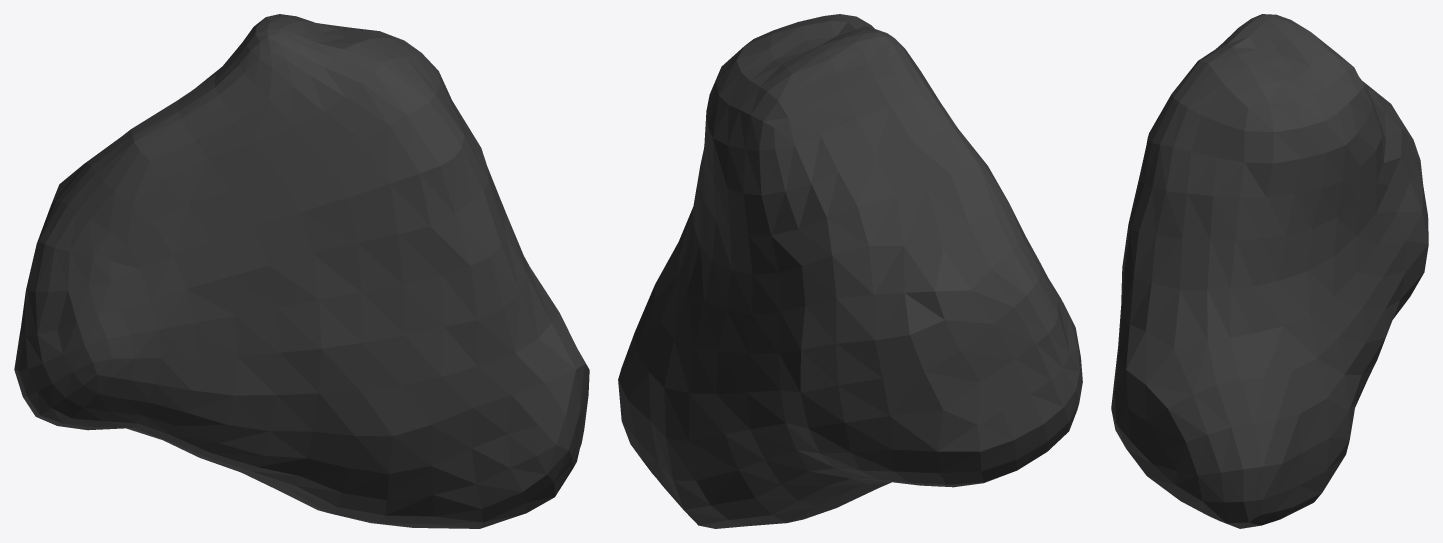
File: Carpal_bone_2nd.glb
3 views of the same model, side by side, from view 1: azimuth 30°, elevation 25°; view 2: azimuth 150°, elevation 25°; view 3: azimuth 270°, elevation 25° (orthographic). The views are drawn at different scales.
Visible parts, largest first — view 1: Carpal_bone_2nd; view 2: Carpal_bone_2nd; view 3: Carpal_bone_2nd.
Boxes of the visible parts, x1,y1,x2,y2 form: Carpal_bone_2nd: (14, 14, 589, 528); Carpal_bone_2nd: (618, 14, 1082, 528); Carpal_bone_2nd: (1111, 14, 1428, 528).
Bounding box in the file's own units: 0.1335 × 0.1347 × 0.0897.
Materials: 1 (1 with a texture image).
